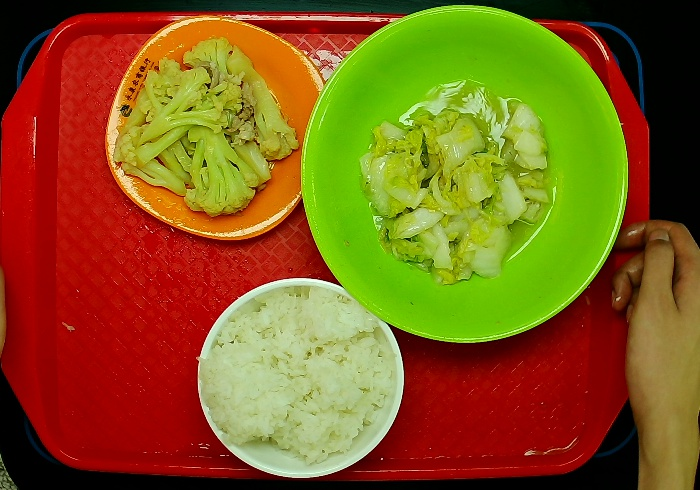YKMZ-Fan_Wan: (187, 274, 411, 482)
YKMZ-Ju_Se_Fang_Die: (99, 13, 331, 246)
YKMZ-Lv_Se_Tang_Wan: (296, 1, 632, 349)
